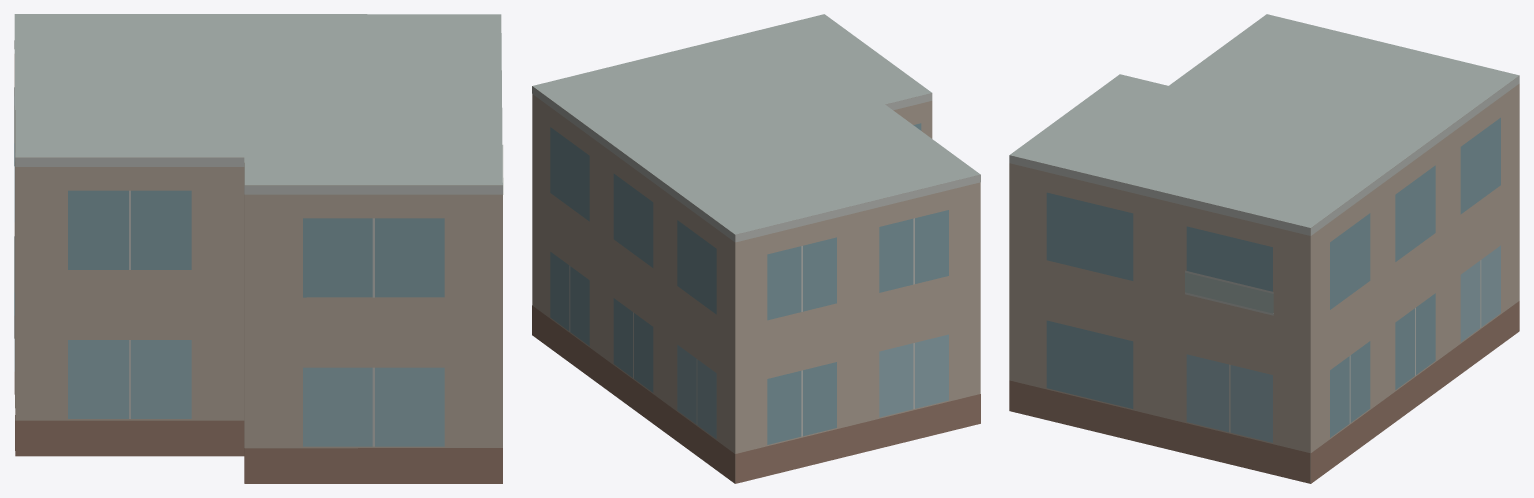
Rendered from survey-upis-32815335.glb.
3 renders of one model, left to right at view 1: azimuth 30°, elevation 25°; view 2: azimuth 150°, elevation 25°; view 3: azimuth 270°, elevation 25°, orthographic. The views are drawn at different scales.
Visible parts, largest first — view 1: survey-upis-32815335.tmp; view 2: survey-upis-32815335.tmp; view 3: survey-upis-32815335.tmp.
Boxes of the visible parts, x1,y1,x2,y2 form: survey-upis-32815335.tmp: (14, 14, 503, 483); survey-upis-32815335.tmp: (532, 14, 980, 483); survey-upis-32815335.tmp: (1009, 14, 1519, 483).
Size of the model in its own units: 14 by 7.8 by 14.11.
